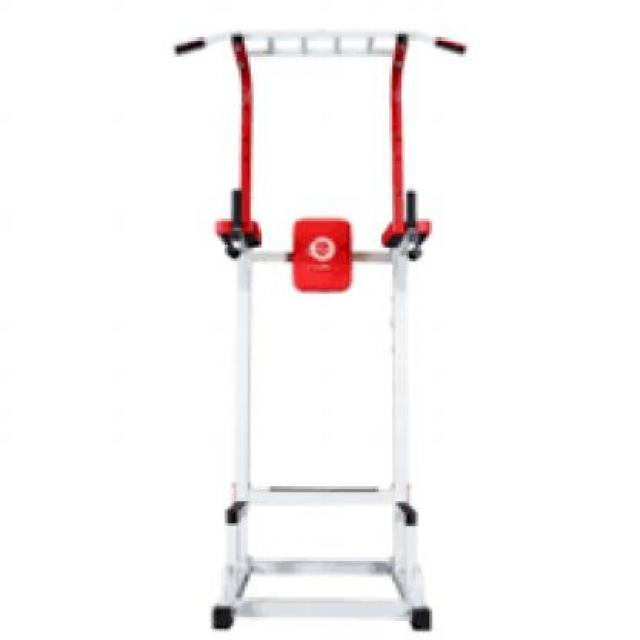chinning dipping: (174, 28, 469, 630)
